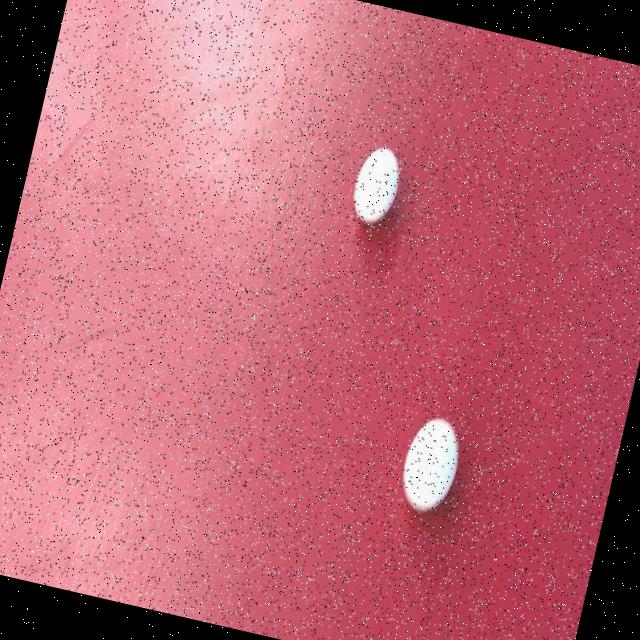ping-pong-ball: (390, 408, 468, 518), (342, 138, 407, 236)
